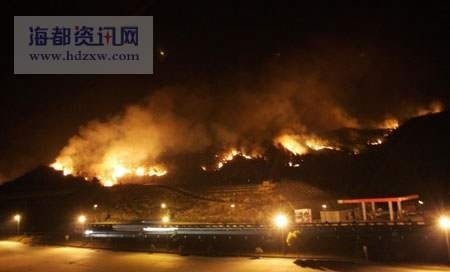fire: (92, 157, 168, 183), (276, 132, 334, 155), (214, 143, 261, 166), (49, 157, 76, 177), (414, 101, 441, 115), (381, 116, 400, 129)
